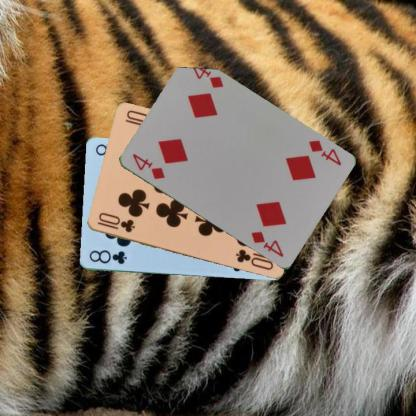10c: (95, 210, 136, 234)
4d: (129, 151, 166, 181), (306, 138, 342, 167)
8c: (86, 247, 127, 266)
